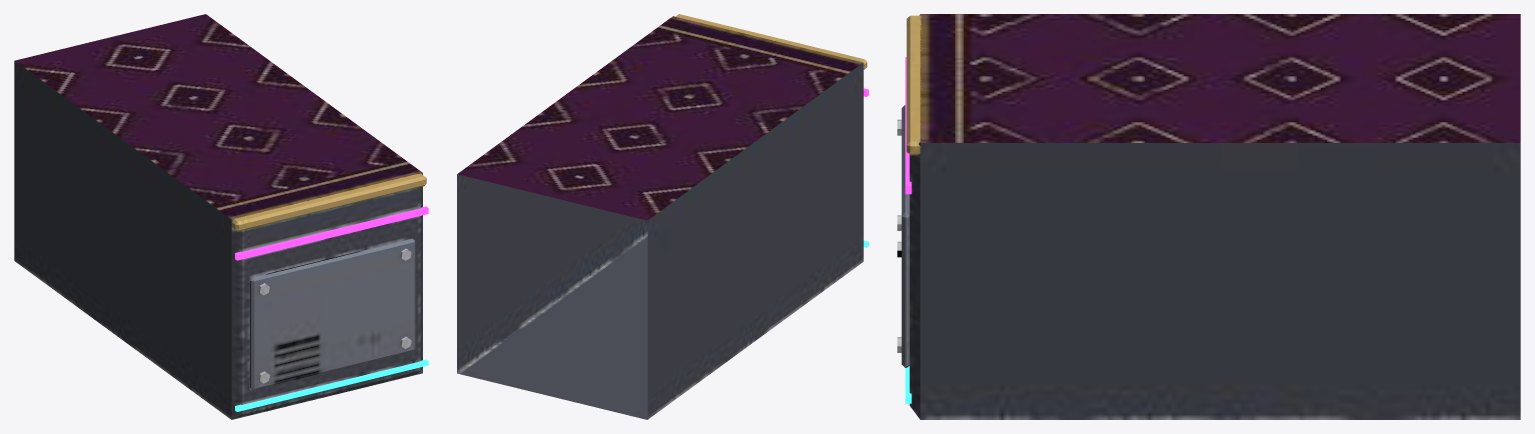
File: tile_floor.glb
3 views of the same model, side by side, from view 1: azimuth 30°, elevation 25°; view 2: azimuth 150°, elevation 25°; view 3: azimuth 270°, elevation 25° (orthographic). The views are drawn at different scales.
Parts seen in each view (by area): view 1: tile_floor; view 2: tile_floor; view 3: tile_floor.
Boxes of the visible parts, <box> form: tile_floor: <box>14,14,428,419</box>; tile_floor: <box>457,14,868,419</box>; tile_floor: <box>897,14,1520,419</box>.
Bounding box in the file's own units: 1 × 1 × 2.04.
3 materials, 1 textured.
